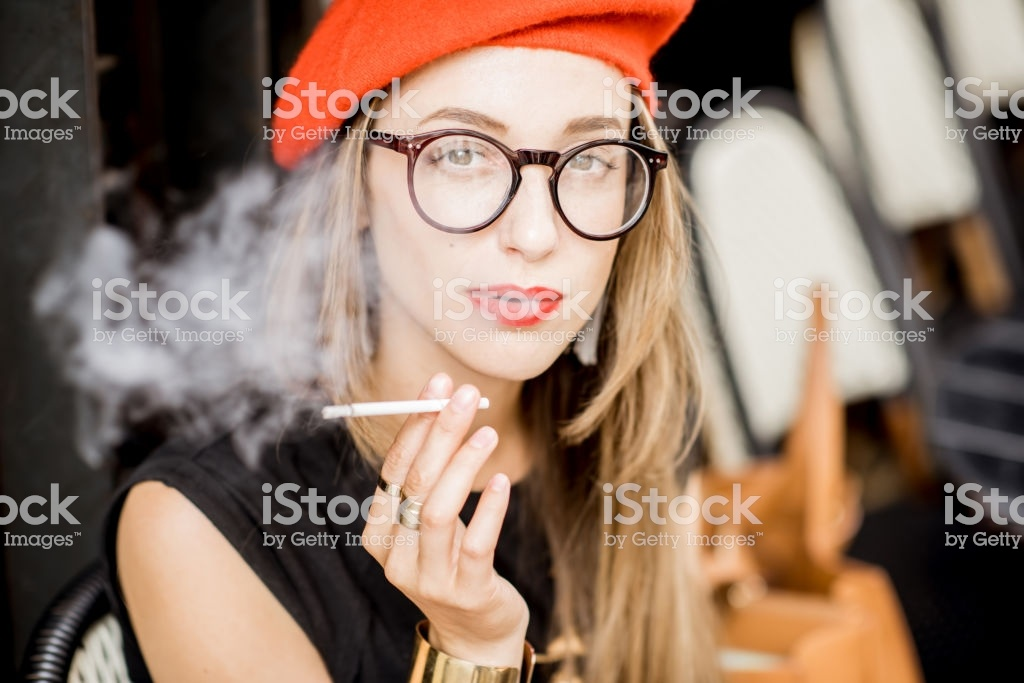sigaretta: (300, 392, 493, 418)
